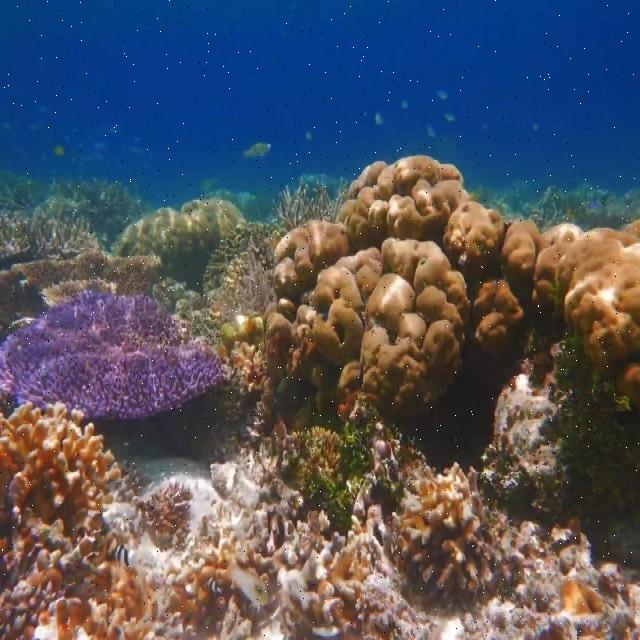reefs: (264, 156, 639, 419), (0, 405, 157, 639), (157, 179, 346, 339), (0, 294, 219, 419), (0, 210, 164, 330), (394, 464, 502, 592), (114, 199, 241, 271)
